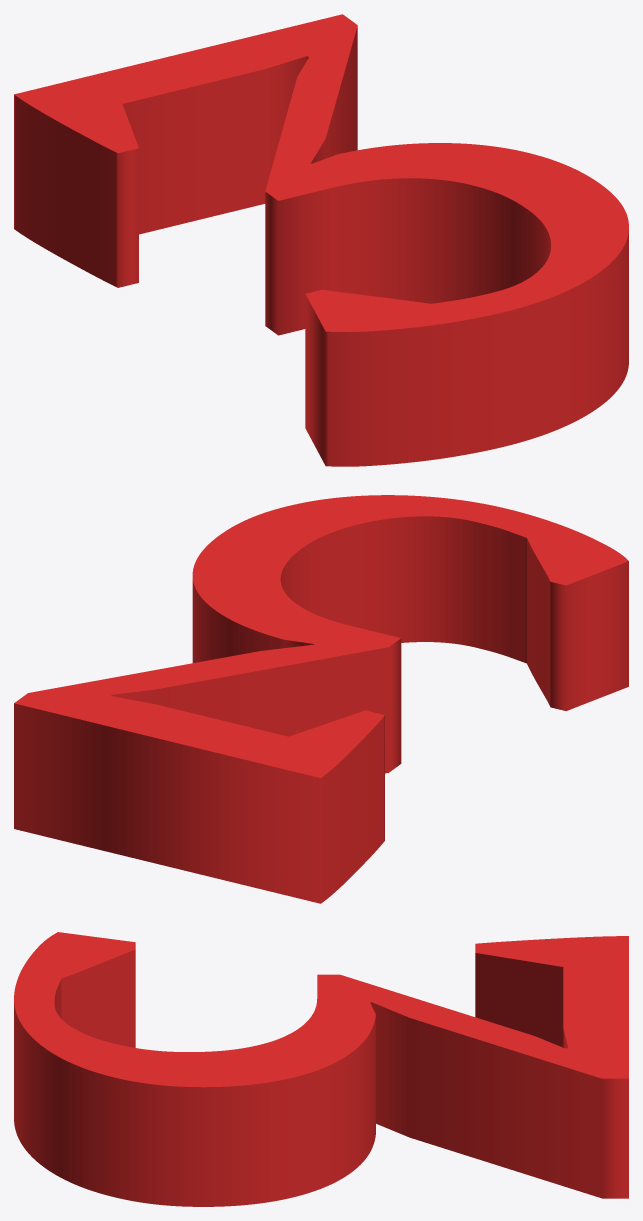
Rendered from three.glb.
3 renders of one model, top to bottom at view 1: azimuth 30°, elevation 25°; view 2: azimuth 150°, elevation 25°; view 3: azimuth 270°, elevation 25°, orthographic. The views are drawn at different scales.
Parts seen in each view (by area): view 1: Текст; view 2: Текст; view 3: Текст.
Boxes of the visible parts, left/top/right/bottom form: Текст: left=14, top=14, right=628, bottom=466; Текст: left=14, top=495, right=628, bottom=903; Текст: left=14, top=932, right=628, bottom=1206.
Size of the model in its own units: 0.3333 by 0.12 by 0.5584.
